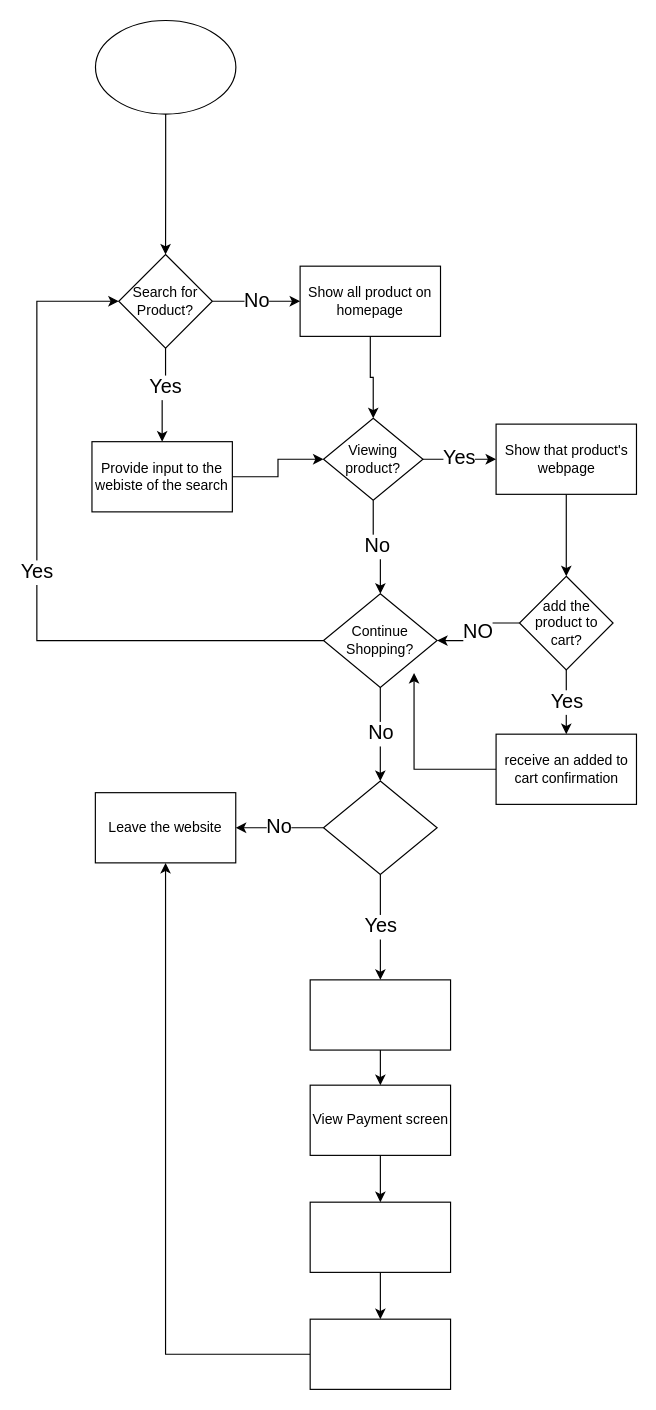
This 656x1410 diagram has some shape labels left out. The centre of each missing label's shape, as x and y in pixels:
Checkout?: point 379,827
give input of the payment information: point 380,1236
order confirmation screen with email confrimation: point 380,1353
Start: point 165,66
View Cart screen: point 380,1014
